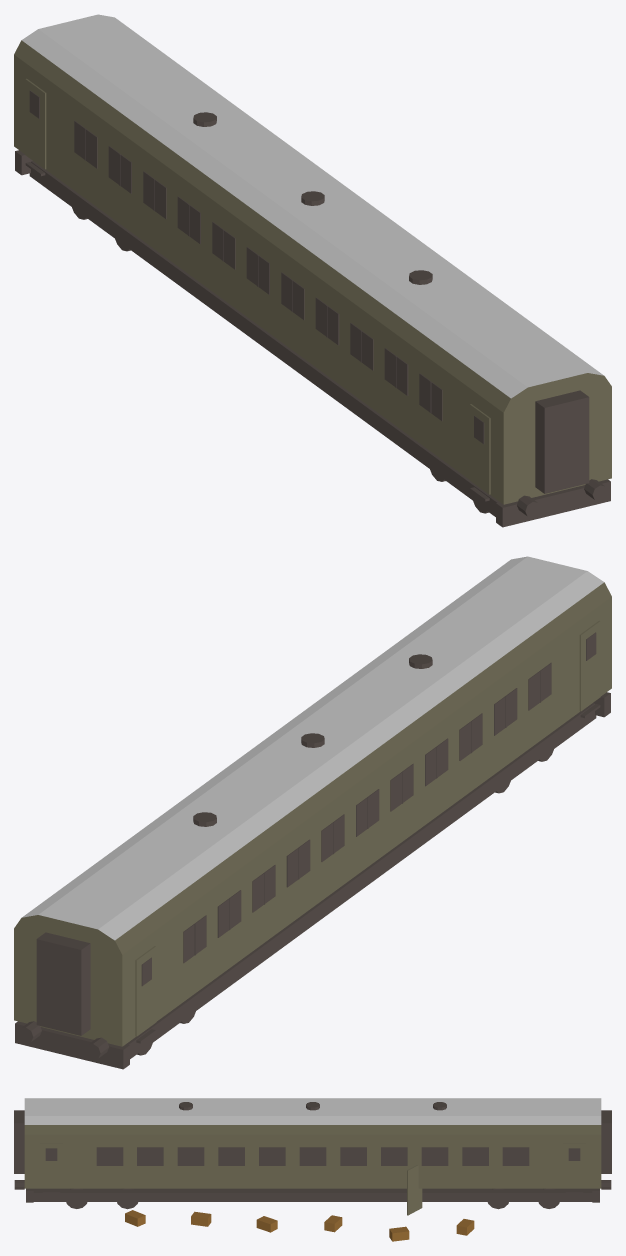
File: SM_VagonAbandonado_v0_Saqueado_LOD0.fbx
3 renders of one model, top to bottom at view 1: azimuth 30°, elevation 25°; view 2: azimuth 150°, elevation 25°; view 3: azimuth 270°, elevation 25°, orthographic. The views are drawn at different scales.
Parts seen in each view (by area): view 1: SM_vagon_abandonado_v0_LOD0; view 2: SM_vagon_abandonado_v0_LOD0; view 3: SM_vagon_abandonado_v0_LOD0.
Part boxes in pixels (x1=…): SM_vagon_abandonado_v0_LOD0: x1=14, y1=14, x2=611, y2=527; SM_vagon_abandonado_v0_LOD0: x1=14, y1=556, x2=611, y2=1069; SM_vagon_abandonado_v0_LOD0: x1=14, y1=1098, x2=611, y2=1241.
Size of the model in its own units: 5.46 by 4.12 by 23.55.
